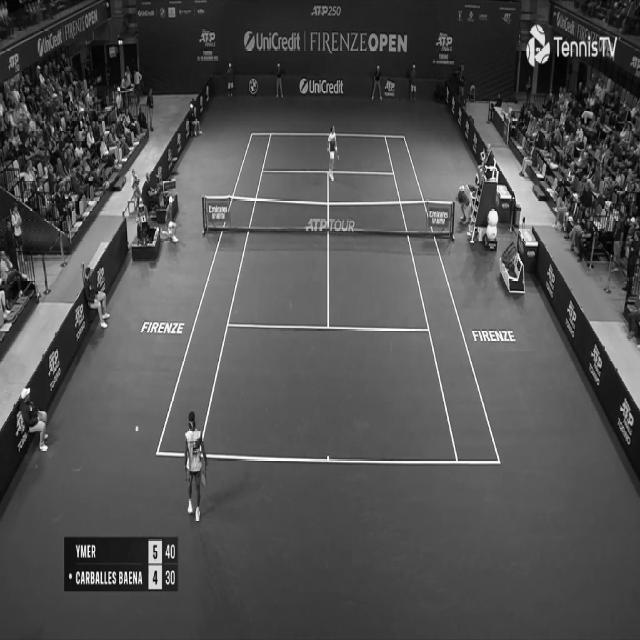tennis-court: (155, 133, 501, 464)
